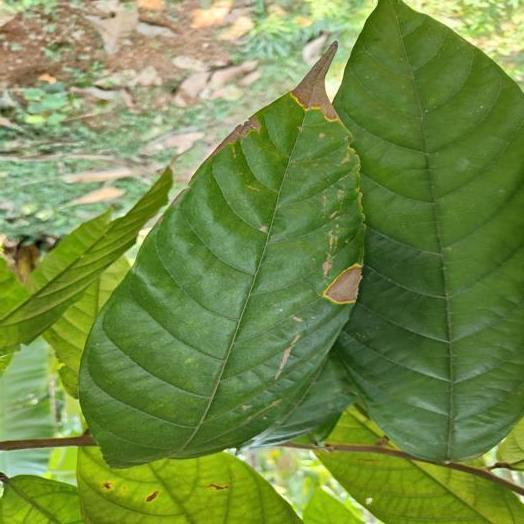Potassium: (81, 46, 362, 467)
